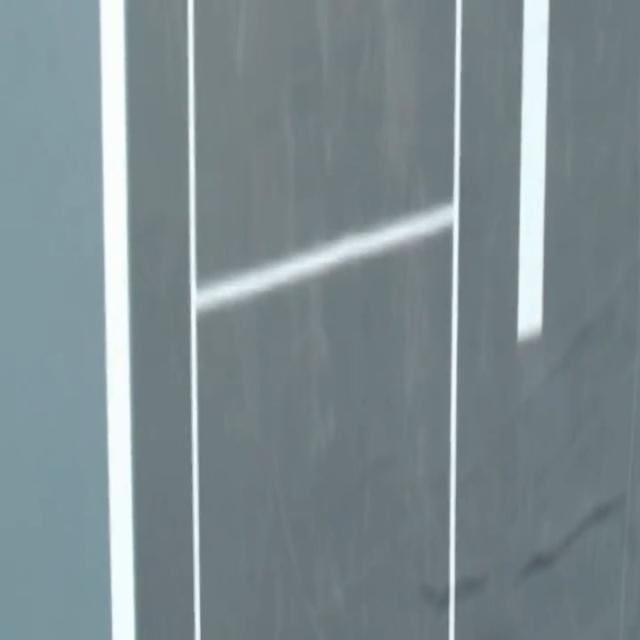center: (517, 0, 548, 341)
left: (100, 0, 134, 639)
